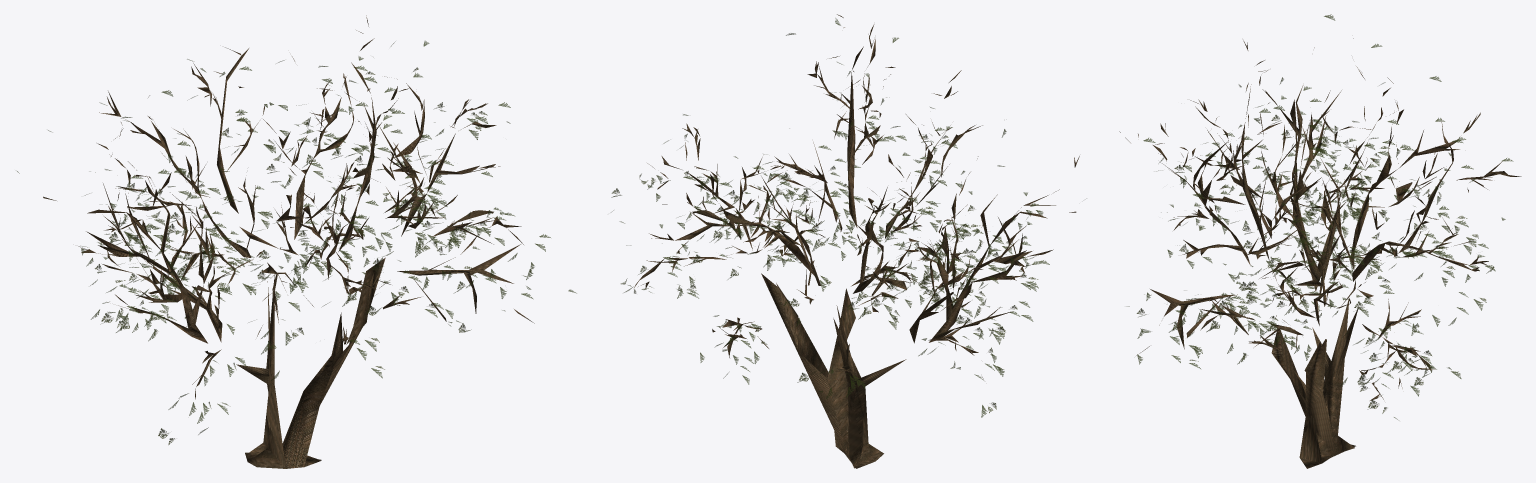
The model's file is distant.glb.
3 renders of one model, left to right at view 1: azimuth 30°, elevation 25°; view 2: azimuth 150°, elevation 25°; view 3: azimuth 270°, elevation 25°, orthographic. The views are drawn at different scales.
Parts seen in each view (by area): view 1: jacaranda_tree_LOD1; view 2: jacaranda_tree_LOD1; view 3: jacaranda_tree_LOD1.
Boxes of the visible parts, x1,y1,x2,y2 form: jacaranda_tree_LOD1: (17,15,576,468); jacaranda_tree_LOD1: (611,14,1079,468); jacaranda_tree_LOD1: (1119,14,1521,468).
Size of the model in its own units: 21.02 by 18.96 by 16.59.
Materials: 3 (3 with a texture image).
